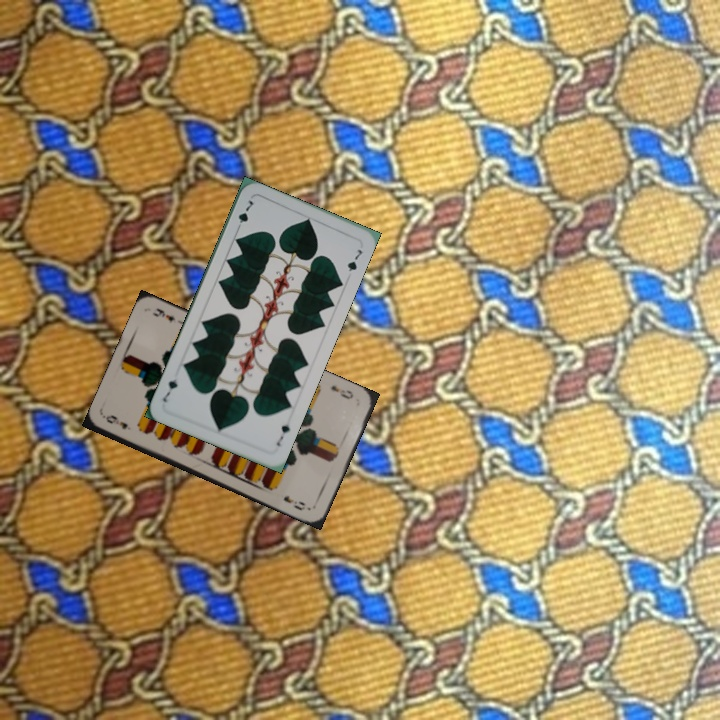E9: (326, 381, 356, 402), (102, 411, 130, 432)
G7: (233, 196, 256, 234), (272, 420, 293, 449)
